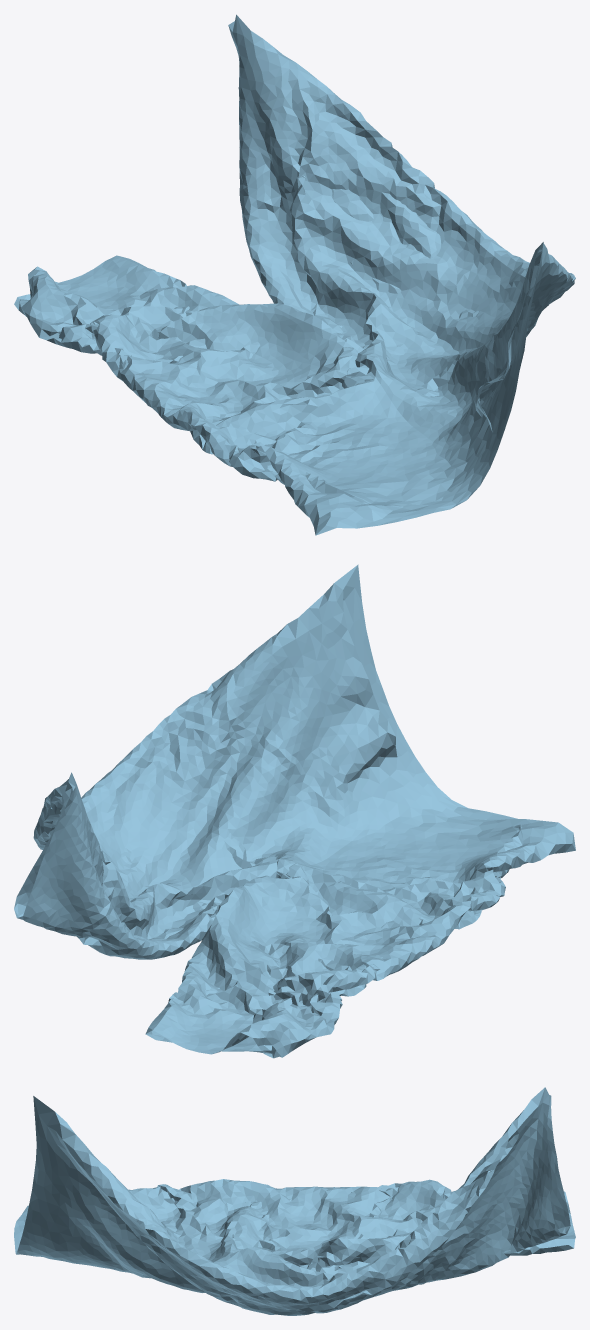
The model's file is frame_09.glb.
The picture shows the model from 3 angles, top to bottom: view 1: azimuth 30°, elevation 25°; view 2: azimuth 150°, elevation 25°; view 3: azimuth 270°, elevation 25°; orthographic projection. The views are drawn at different scales.
Visible parts, largest first — view 1: frame_09.obj; view 2: frame_09.obj; view 3: frame_09.obj.
Boxes of the visible parts, left/top/right/bottom form: frame_09.obj: left=14, top=14, right=575, bottom=535; frame_09.obj: left=14, top=564, right=575, bottom=1058; frame_09.obj: left=14, top=1087, right=575, bottom=1315.
Bounding box in the file's own units: 1.14 × 0.7149 × 1.74.
